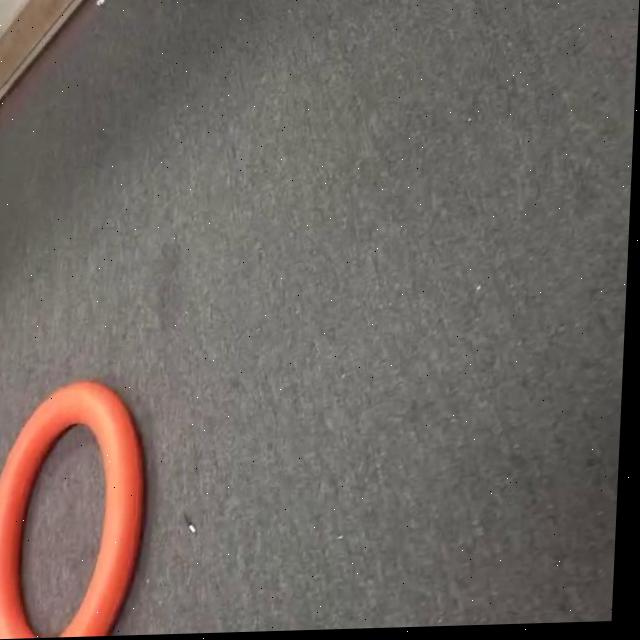note: (0, 377, 168, 640)
